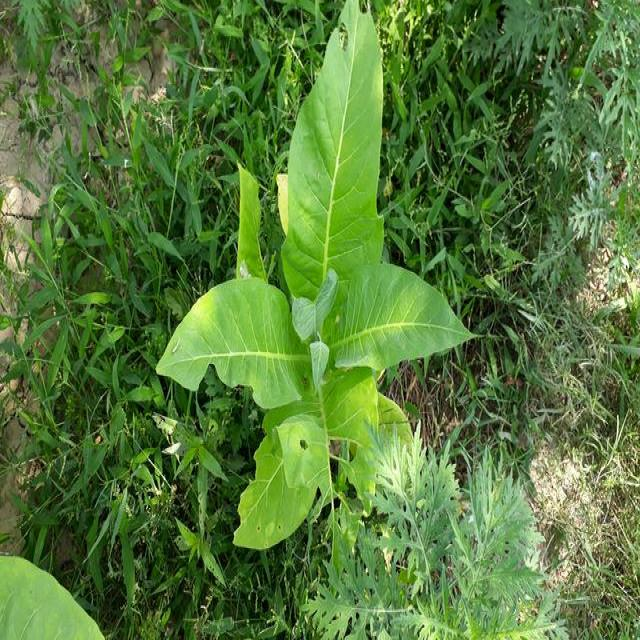crop: (175, 12, 442, 530), (1, 545, 95, 640)
